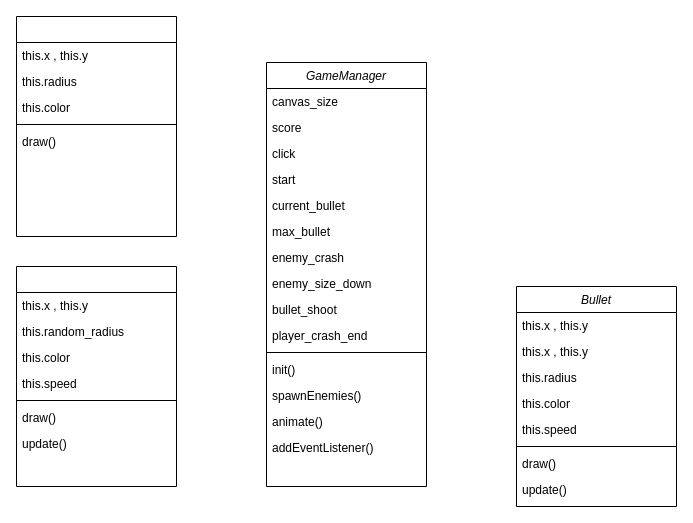
This 693x523 diagram has some shape labels left out. Here are the shapes that lost their labels. From the top down, the box of each, then its label:
(16, 16, 176, 236): Player
(16, 266, 176, 486): Enemy
